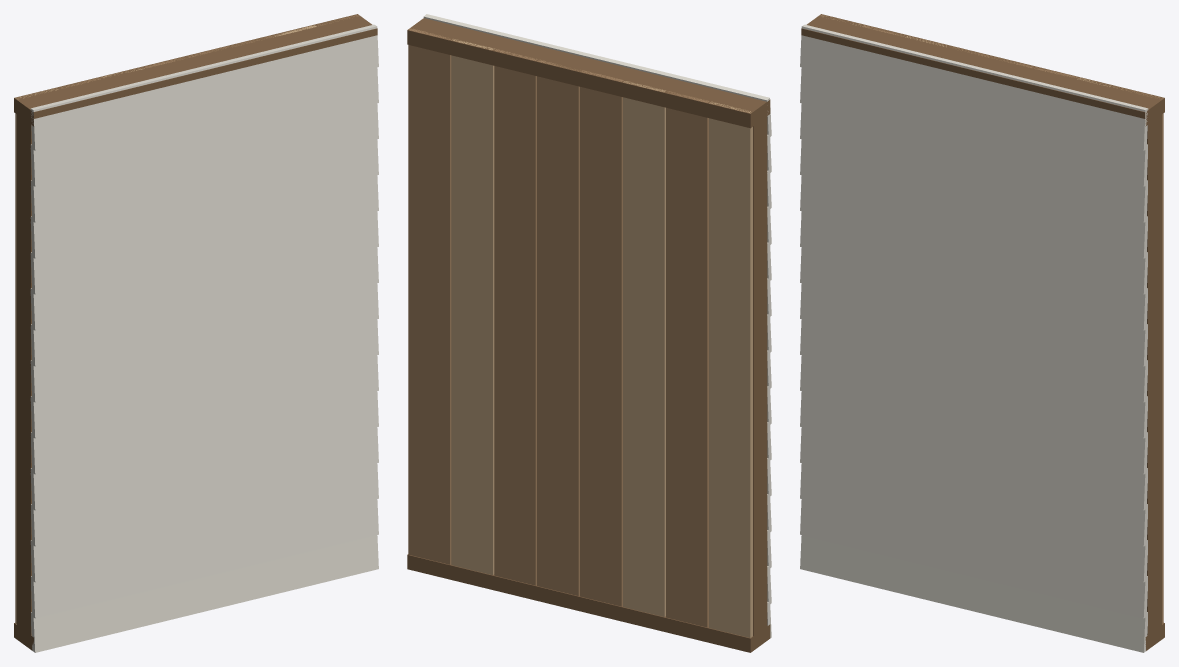
Rendered from SM_Wall_Plank_Painted.glb.
The picture shows the model from 3 angles, left to right: view 1: azimuth 30°, elevation 25°; view 2: azimuth 150°, elevation 25°; view 3: azimuth 330°, elevation 25°; orthographic projection.
Visible parts, largest first — view 1: SM_Wall_Plank_Painted; view 2: SM_Wall_Plank_Painted; view 3: SM_Wall_Plank_Painted.
Part boxes in pixels (x1,y1,x2,y2): SM_Wall_Plank_Painted: [14, 14, 378, 652]; SM_Wall_Plank_Painted: [407, 14, 771, 652]; SM_Wall_Plank_Painted: [800, 14, 1164, 652].
Size of the model in its own units: 2 by 3.01 by 0.2137.
